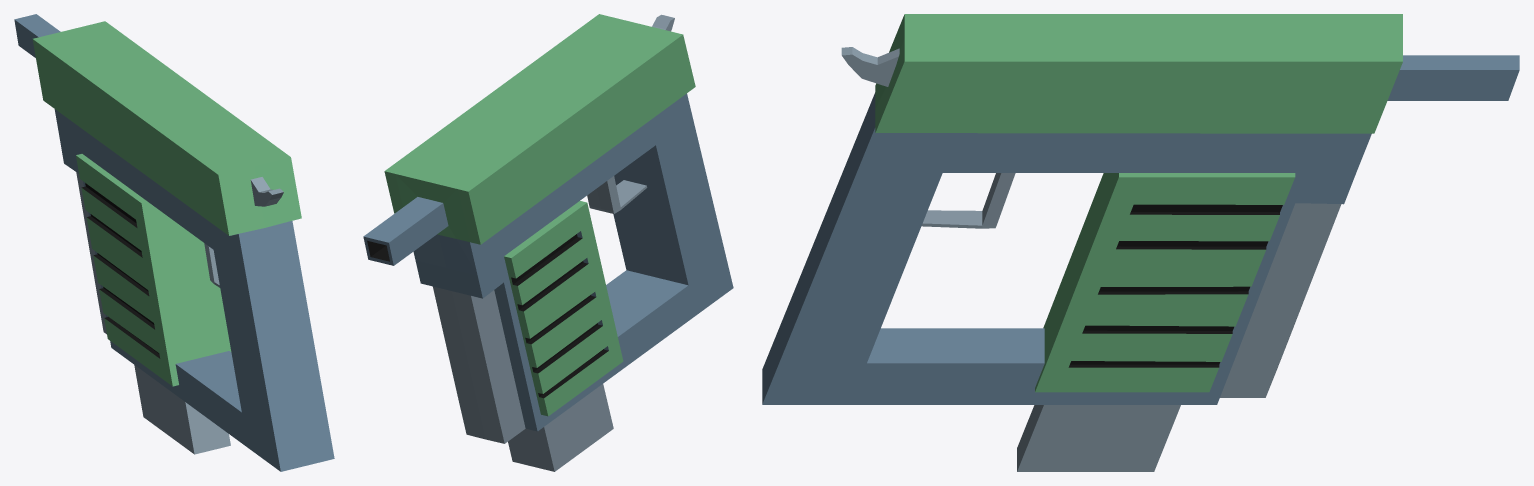
The model's file is SM_Pistol_02_M.fbx.
The picture shows the model from 3 angles, left to right: view 1: azimuth 30°, elevation 25°; view 2: azimuth 150°, elevation 25°; view 3: azimuth 270°, elevation 25°; orthographic projection. The views are drawn at different scales.
Visible parts, largest first — view 1: SM_Pistol_02; view 2: SM_Pistol_02; view 3: SM_Pistol_02.
Boxes of the visible parts, <box> form: SM_Pistol_02: <box>14,14,334,471</box>; SM_Pistol_02: <box>363,14,733,471</box>; SM_Pistol_02: <box>762,14,1519,471</box>.
Bounding box in the file's own units: 0.1969 × 0.8151 × 1.33.
